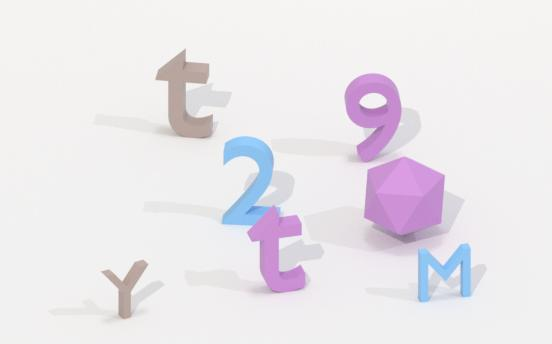2: (221, 134, 284, 236)
M-hoa: (414, 245, 476, 303)
Y-hoa: (100, 254, 152, 325)
dagiac: (358, 154, 450, 238)
e: (340, 68, 407, 162)
tru: (243, 202, 313, 299), (152, 48, 217, 140)
